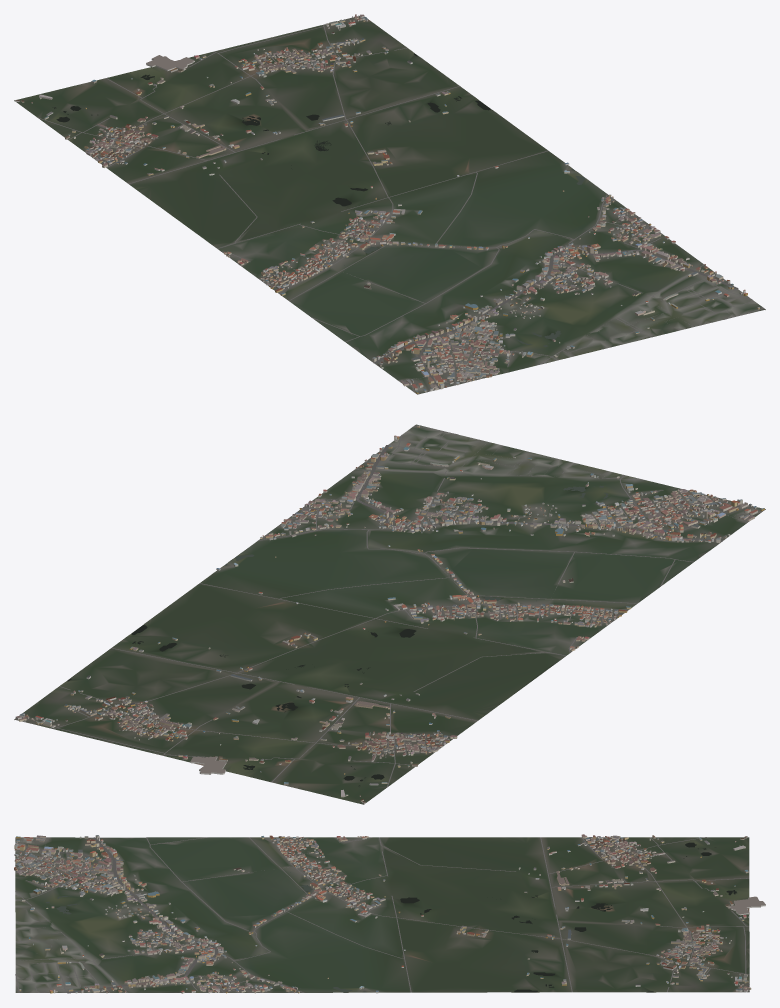
3 views of the same model, one above another, from view 1: azimuth 30°, elevation 25°; view 2: azimuth 150°, elevation 25°; view 3: azimuth 270°, elevation 25° (orthographic). The views are drawn at different scales.
Parts seen in each view (by area): view 1: ground, buildings, roads, water; view 2: ground, buildings, roads, water; view 3: ground, buildings, roads, water.
Boxes of the visible parts, box(x1,y1,x2,y2) form: ground: box(14, 15, 765, 394); buildings: box(15, 14, 759, 393); roads: box(37, 19, 763, 391); water: box(52, 53, 600, 347); ground: box(14, 424, 765, 804); buildings: box(15, 425, 764, 803); roads: box(15, 425, 746, 787); water: box(67, 485, 608, 786); ground: box(15, 837, 749, 992); buildings: box(14, 834, 765, 993); roads: box(15, 837, 749, 993); water: box(46, 842, 736, 992).
Bounding box in the file's own units: 1423 × 30.86 × 2872.
